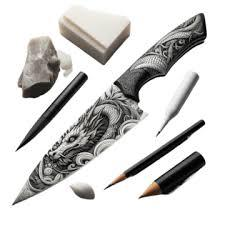Knife: (11, 11, 207, 205)
